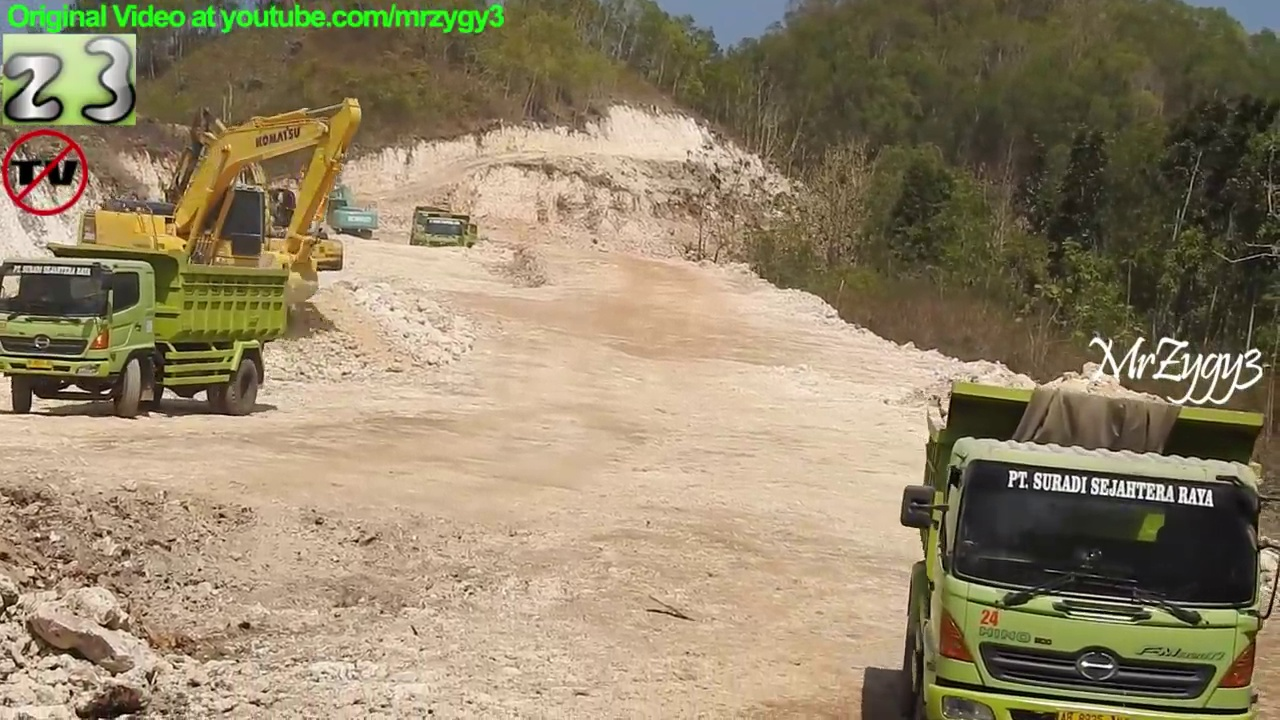excavator: (57, 92, 371, 343), (150, 102, 354, 306), (203, 117, 312, 245), (317, 155, 381, 244)
truck: (893, 376, 1280, 720), (1, 240, 292, 420), (406, 203, 454, 254), (426, 213, 474, 259)
